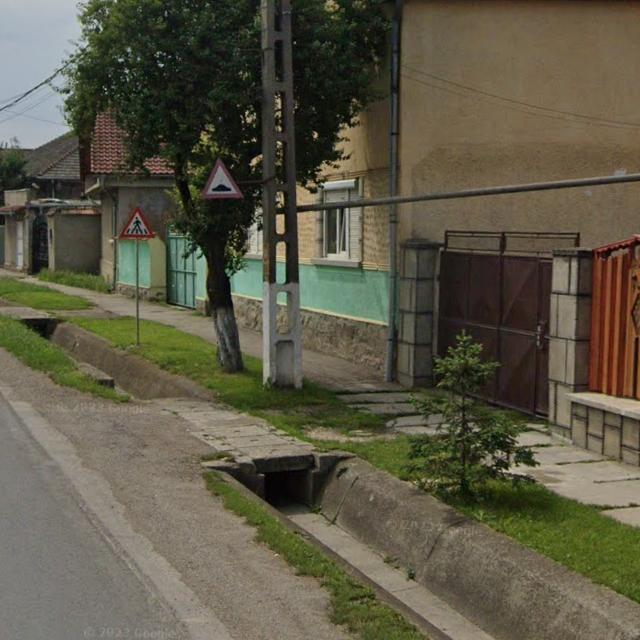warn_crosswalk: (119, 207, 154, 239)
